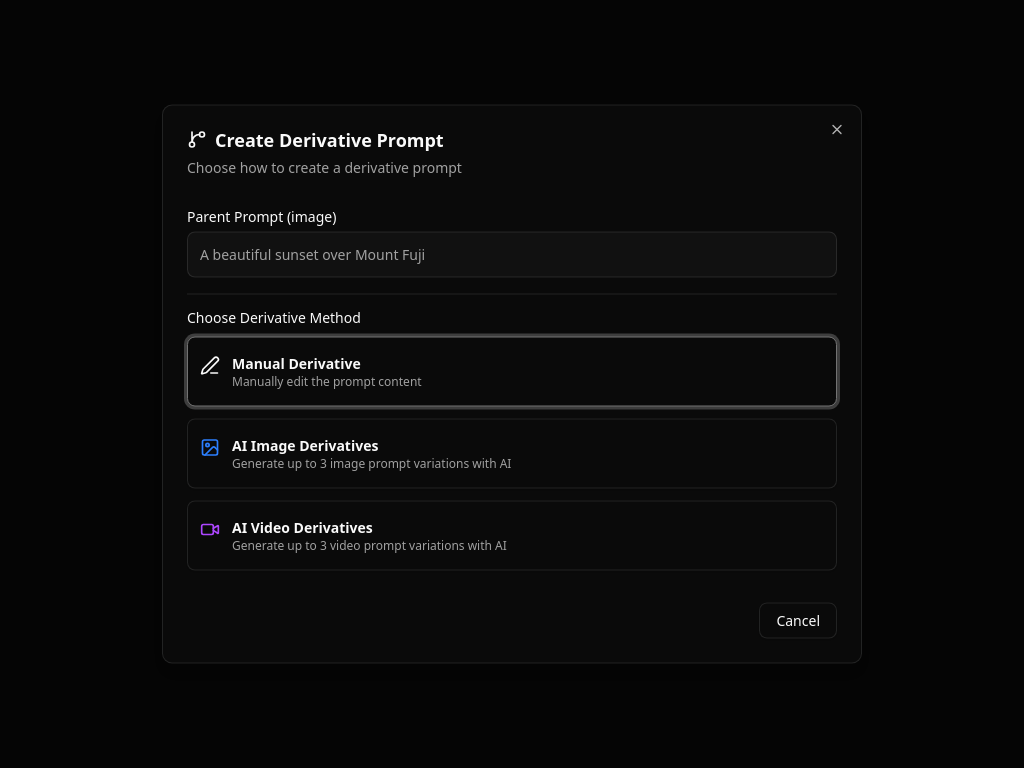
Test: DerivativePromptModal › Manual Mode › should go back to mode selection when Back is clicked
Click the text "Manual Derivative" at (296, 363), box [232,354,361,372]
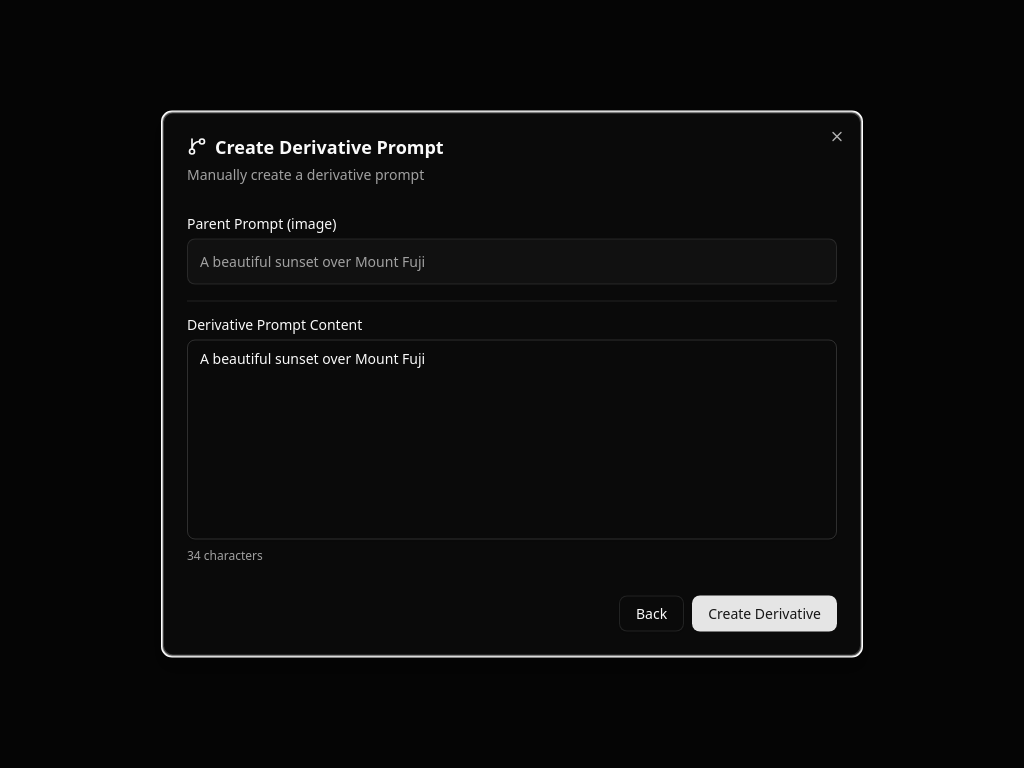
Click the button "Back" at (652, 614), box [619,596,684,632]
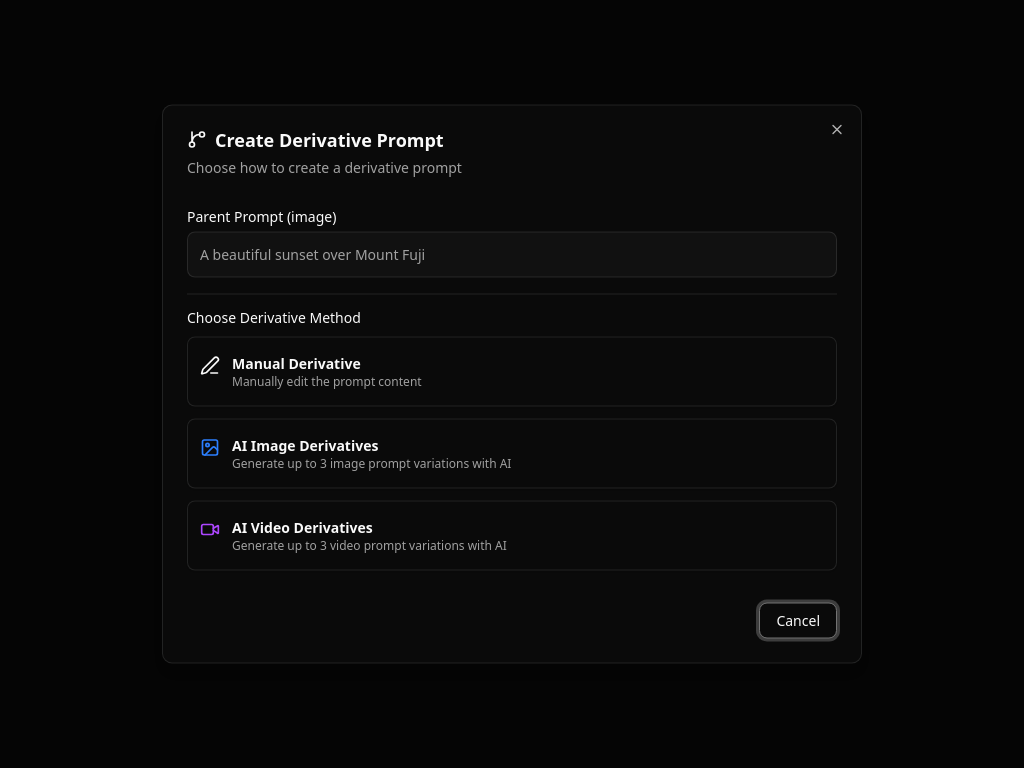
Expected: the text "Choose how to create a derivative prompt" is shown, [187,158,462,176]
